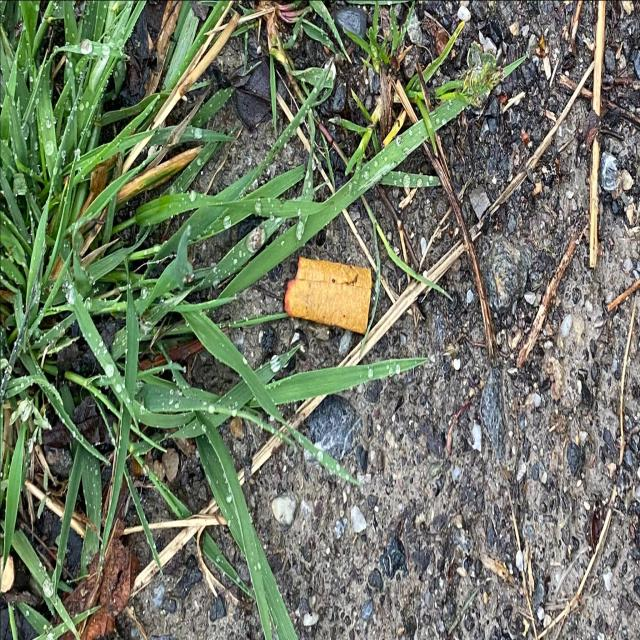other waste: (280, 254, 372, 336)
